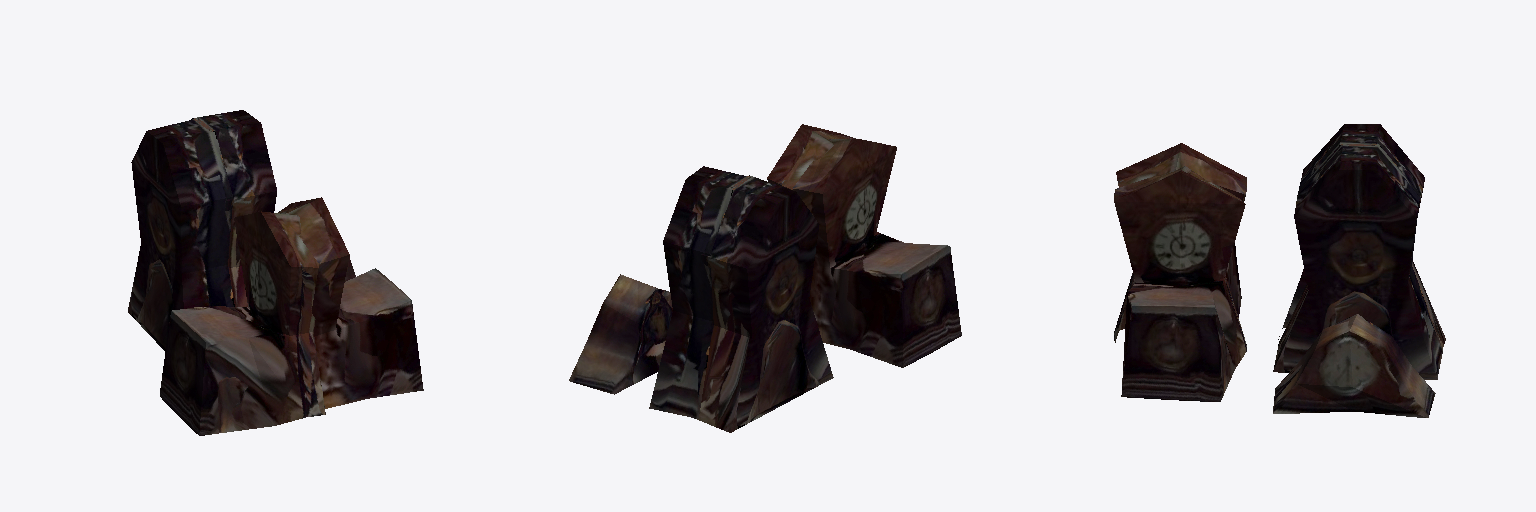
3 views of the same model, side by side, from view 1: azimuth 30°, elevation 25°; view 2: azimuth 150°, elevation 25°; view 3: azimuth 270°, elevation 25° (orthographic).
Parts seen in each view (by area): view 1: LivingRoom_GEO_GRP_LivingRoom_Clock_01; view 2: LivingRoom_GEO_GRP_LivingRoom_Clock_01; view 3: LivingRoom_GEO_GRP_LivingRoom_Clock_01.
Boxes of the visible parts, box(x1,y1,x2,y2) form: LivingRoom_GEO_GRP_LivingRoom_Clock_01: box(128, 110, 423, 435); LivingRoom_GEO_GRP_LivingRoom_Clock_01: box(569, 124, 961, 432); LivingRoom_GEO_GRP_LivingRoom_Clock_01: box(1114, 124, 1445, 417).
Size of the model in its own units: 0.7165 by 0.5754 by 0.8222.
1 materials, 1 textured.